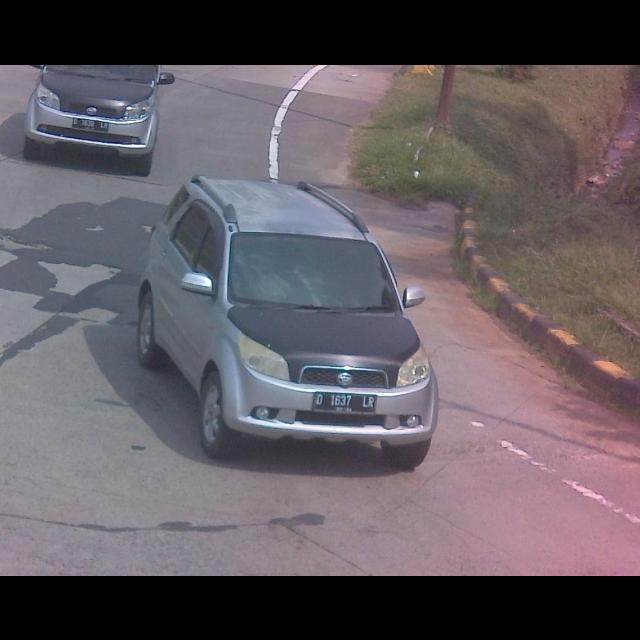plate: (312, 390, 378, 414)
